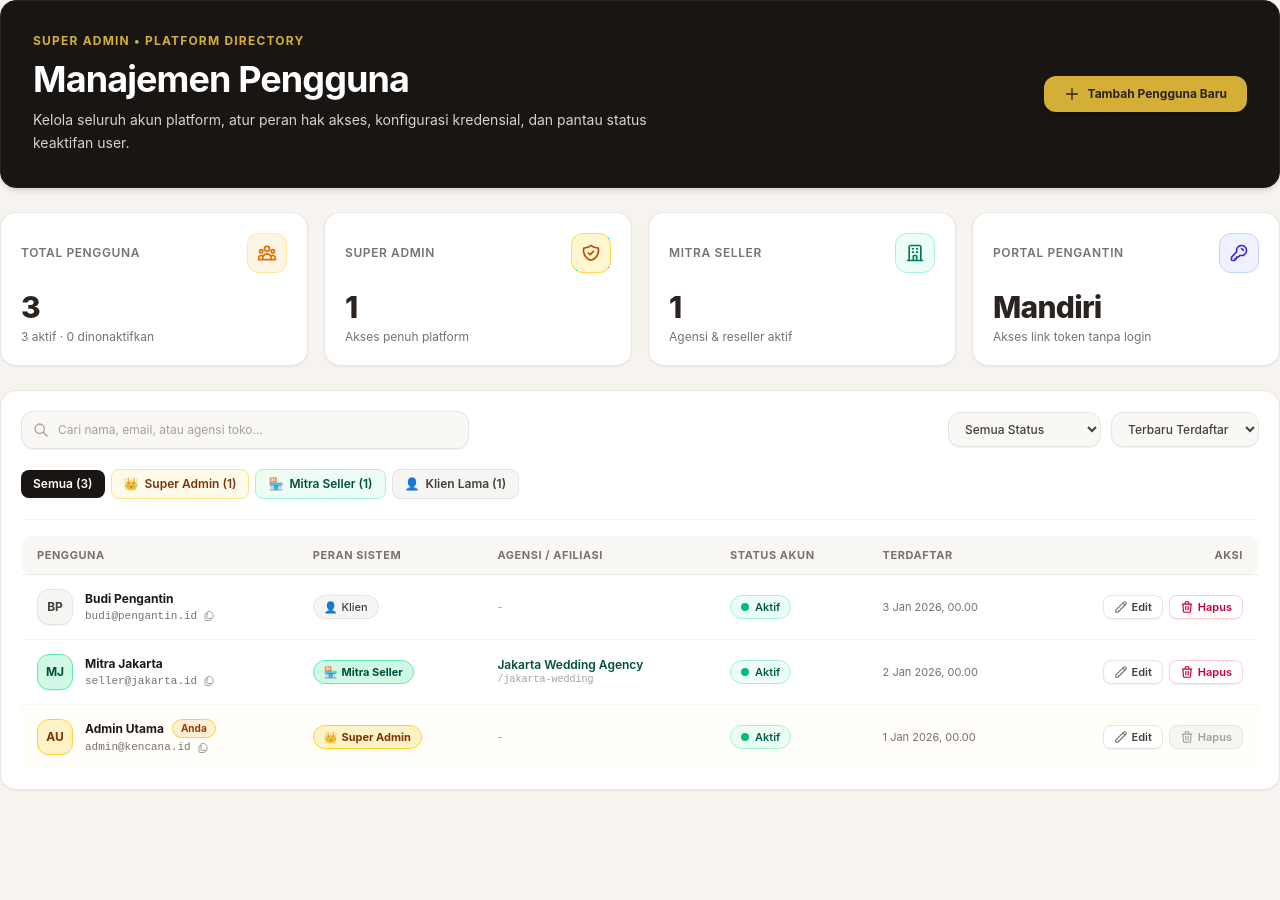
Test: UserManager Component (Super Admin) › filters table results when selecting role tabs
This screenshot has width=1280, height=900.
# Click Mitra Seller tab
What coordinates should you click on to do the following:
click the text "Mitra Seller (1)"
I would click on:
 (331, 484)
Its box is [289,476,372,492].
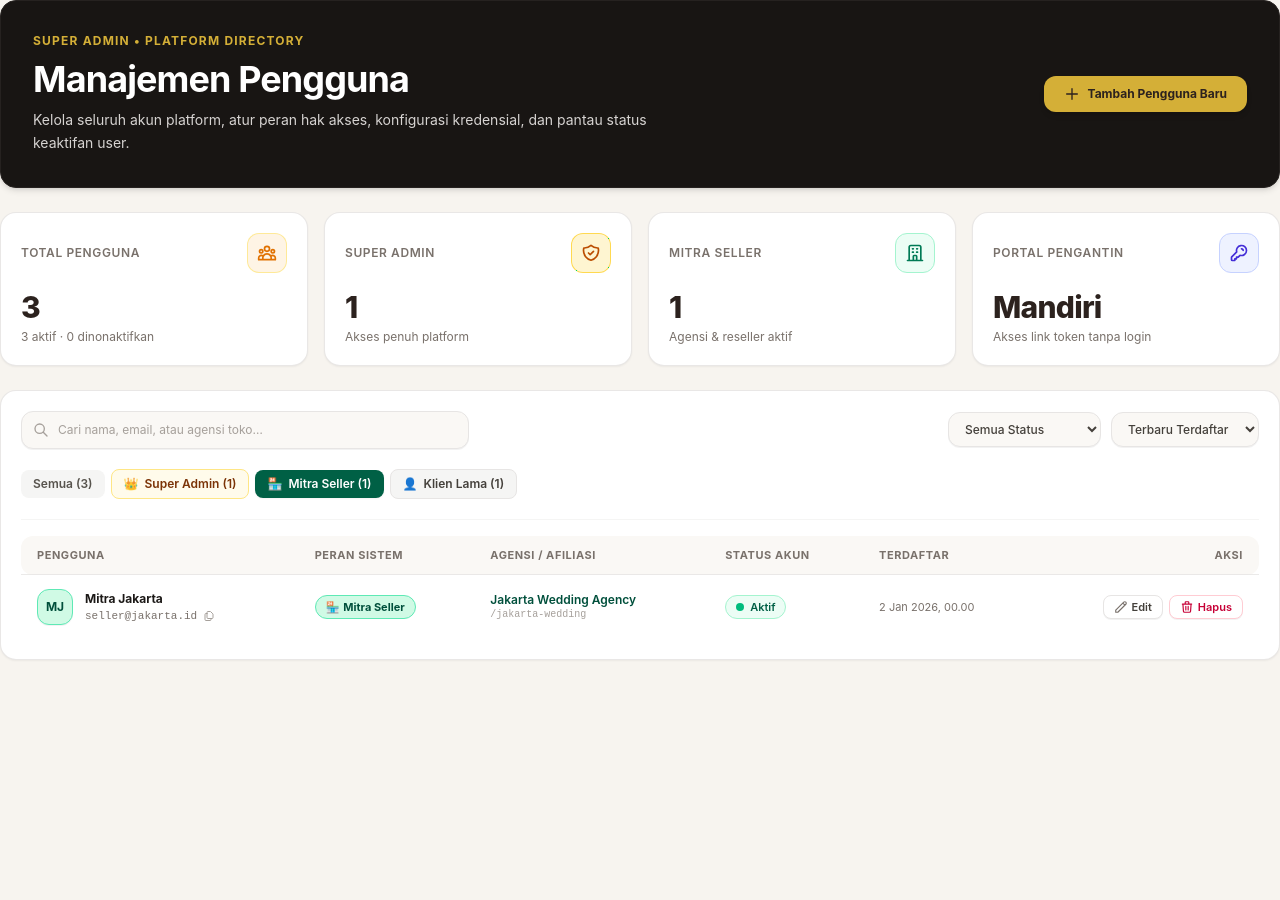
Expected: the text "Mitra Jakarta" is shown, [85,591,163,607]
Expected: the text "Budi Pengantin" is gone
